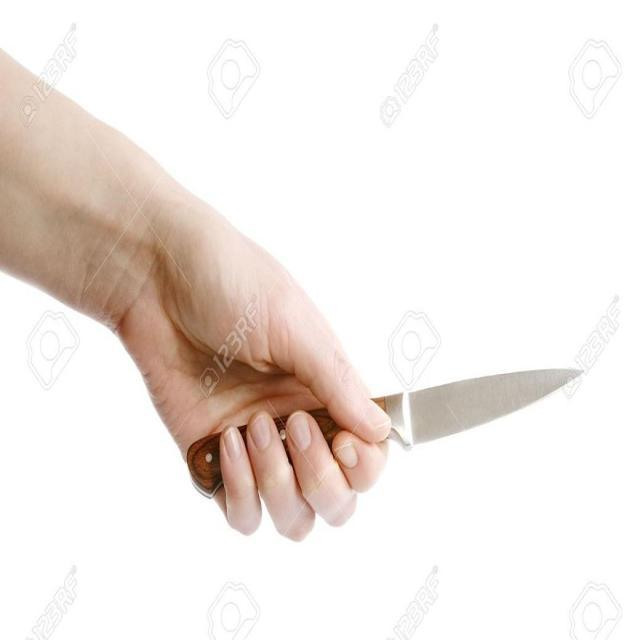faca: (188, 366, 585, 497)
